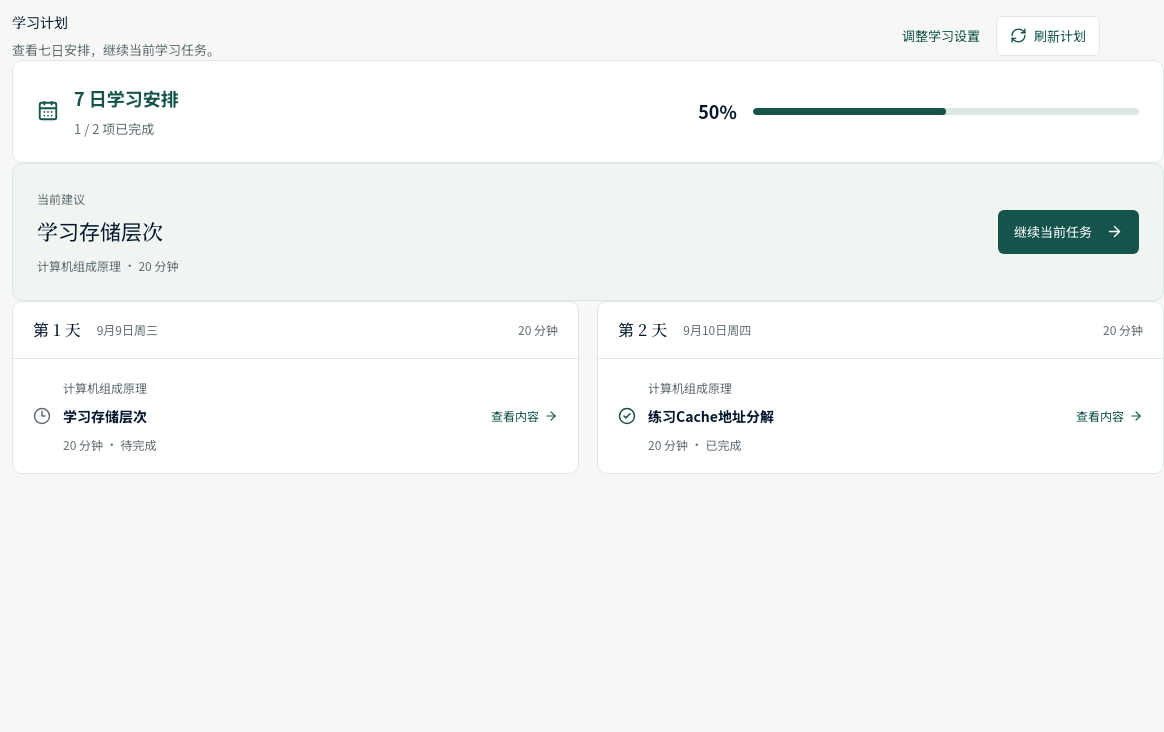
Test case: current seven-day learning plan › keeps the last saved plan if a refresh fails
Expected: the list item with test id "plan-task-plan-co-1" is shown, [33, 358, 558, 473]
Click the button with aria-label "刷新学习计划" at (1048, 36), box [996, 16, 1100, 56]
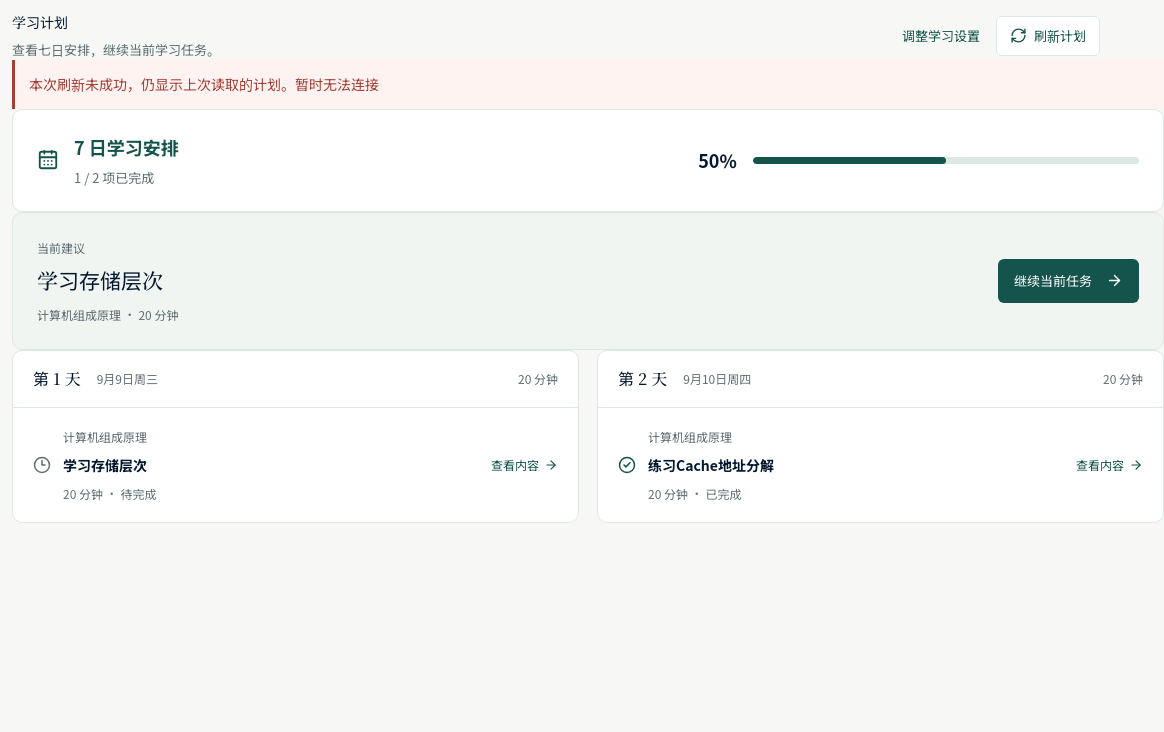
Expected: the list item with test id "plan-task-plan-co-1" is shown, [33, 408, 558, 522]
Now the message shows "仍显示上次读取的计划", box [29, 74, 295, 94]
